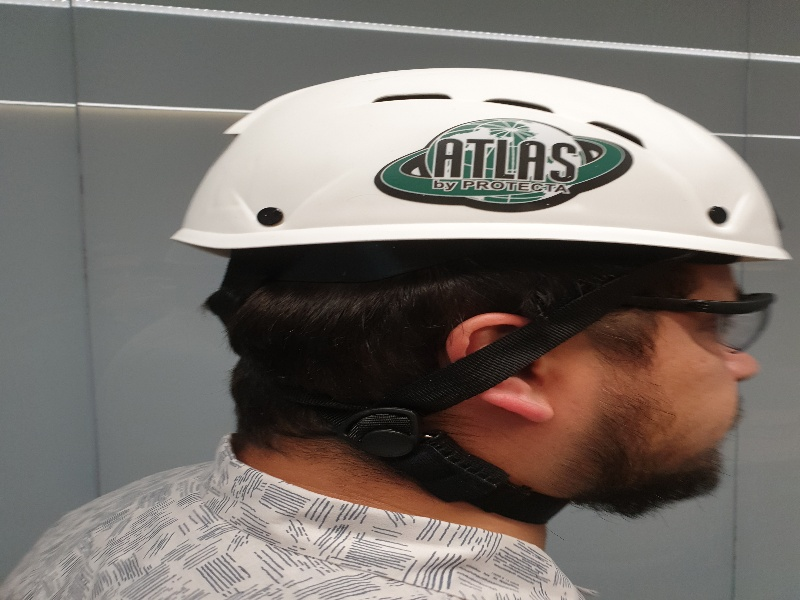Baret: (171, 68, 786, 263)
Gozluk: (589, 289, 777, 357)
